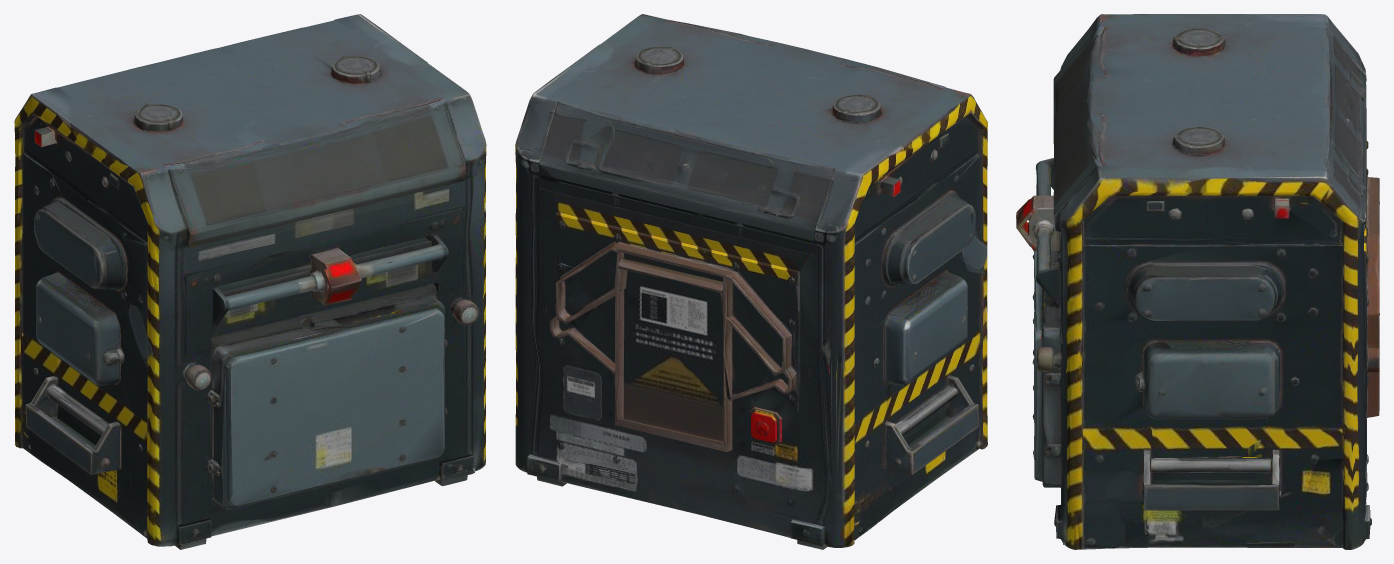
Rendered from Meshy_AI_Facility_Waste_Compactor_balanced.glb.
3 views of the same model, side by side, from view 1: azimuth 30°, elevation 25°; view 2: azimuth 150°, elevation 25°; view 3: azimuth 270°, elevation 25° (orthographic). The views are drawn at different scales.
Bounding box in the file's own units: 1.9 × 1.78 × 1.51.
Materials: 1 (1 with a texture image).
